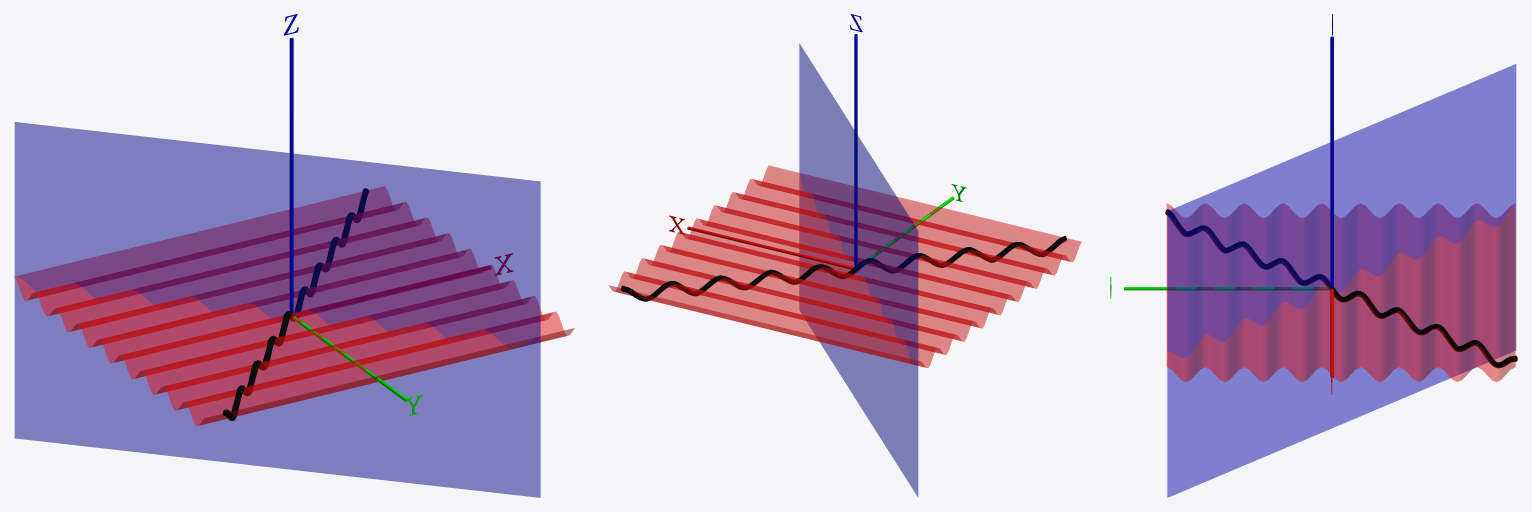
Rendered from Trigo - Plano.fbx.
3 renders of one model, left to right at view 1: azimuth 30°, elevation 25°; view 2: azimuth 150°, elevation 25°; view 3: azimuth 270°, elevation 25°, orthographic. The views are drawn at different scales.
Visible parts, largest first — view 1: default_1, default_, default_2, Eje_Z, Eje_Y; view 2: default_, default_1, default_2, Eje_Z, Eje_X; view 3: default_1, default_, default_2, Eje_Z, Eje_Y.
Part boxes in pixels (left/top/right/bottom): default_1: left=14, top=122, right=540, bottom=497; default_: left=14, top=186, right=574, bottom=426; default_2: left=222, top=188, right=368, bottom=420; Eje_Z: left=289, top=37, right=293, bottom=312; Eje_Y: left=292, top=316, right=407, bottom=401; default_: left=609, top=165, right=1081, bottom=367; default_1: left=799, top=43, right=918, bottom=496; default_2: left=621, top=236, right=1066, bottom=301; Eje_Z: left=854, top=34, right=857, bottom=266; Eje_X: left=687, top=226, right=853, bottom=269; default_1: left=1167, top=64, right=1516, bottom=497; default_: left=1166, top=203, right=1515, bottom=381; default_2: left=1165, top=209, right=1517, bottom=368; Eje_Z: left=1330, top=36, right=1333, bottom=285; Eje_Y: left=1124, top=287, right=1327, bottom=290.
Bounding box in the file's own units: 295 × 322 × 289.
